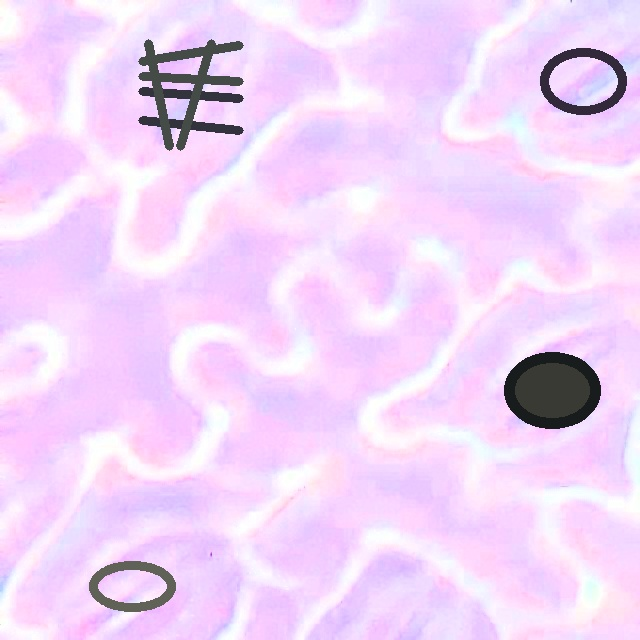open: (138, 39, 243, 150), (503, 352, 600, 427), (540, 47, 626, 115), (88, 560, 177, 613)
